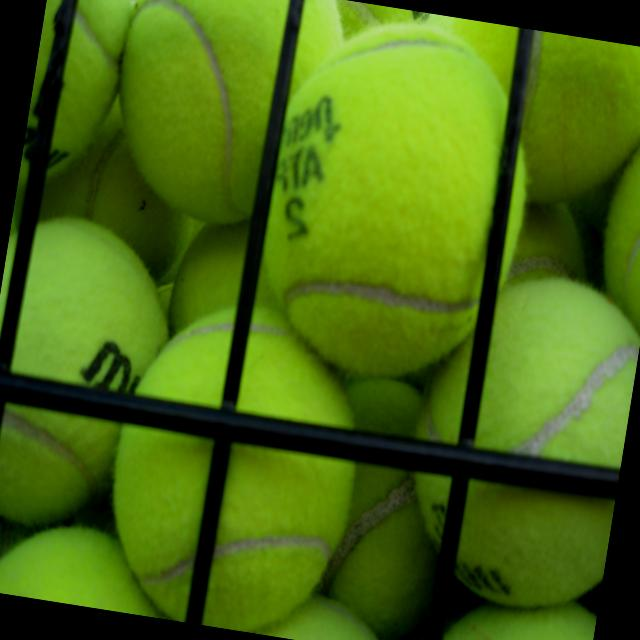Tennis Ball: (0, 0, 640, 640), (240, 0, 538, 401)
